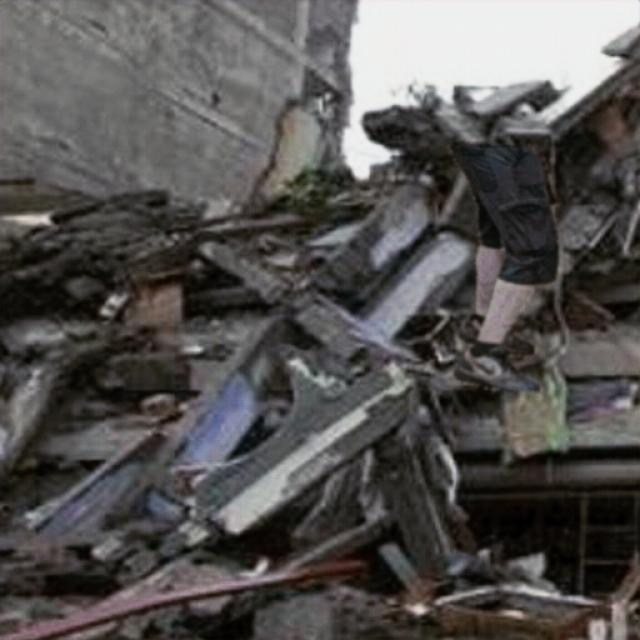Person in Rubble: (448, 141, 558, 390)
